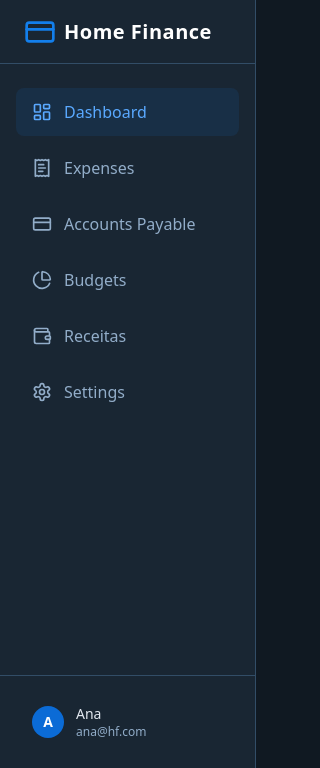
Sidebar — menu de troca de usuário › abre o menu, troca o usuário selecionado e fecha o menu
Step 1. Click the button "A Ana ana@hf.com" → (128, 722), box x1=16 y1=692 x2=239 y2=752
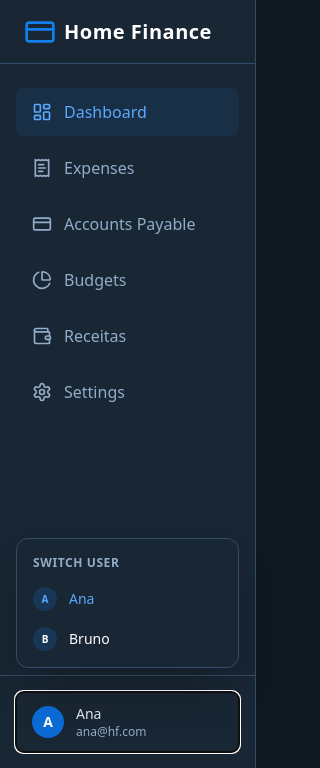
expect the text "Switch User" is shown: met, box x1=33 y1=554 x2=120 y2=571
Step 2. Click the button "B Bruno" → (128, 639), box x1=17 y1=619 x2=238 y2=659
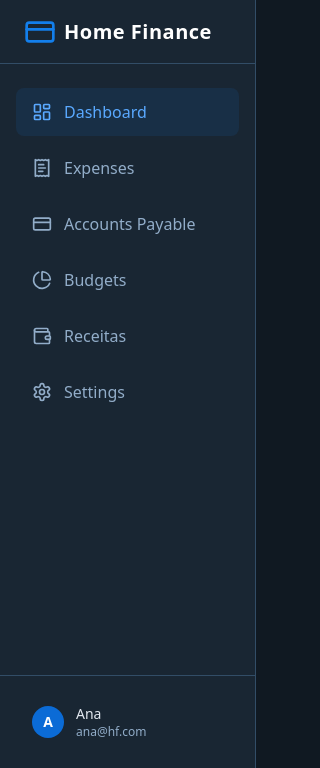
expect the text "Switch User" is gone: met
